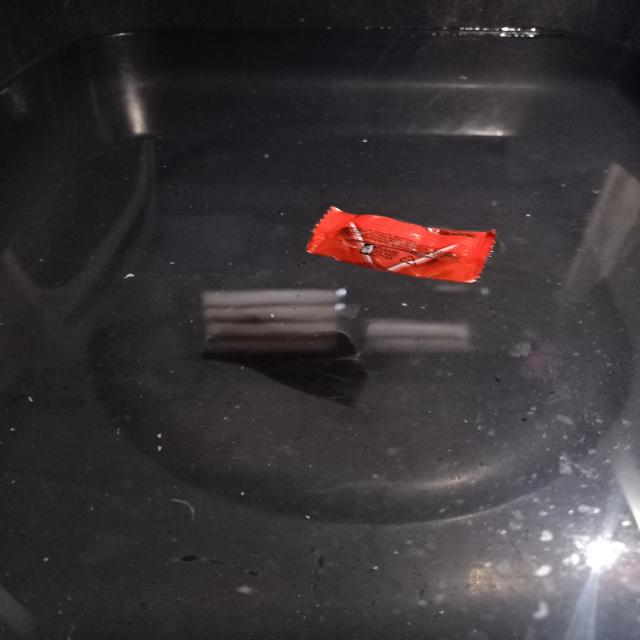Plastic Wrapper: (307, 207, 496, 282)
